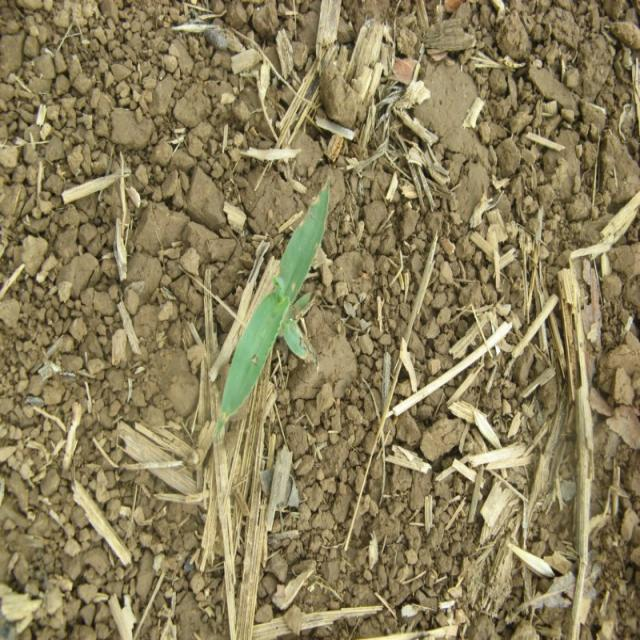bg: (221, 180, 333, 427)
